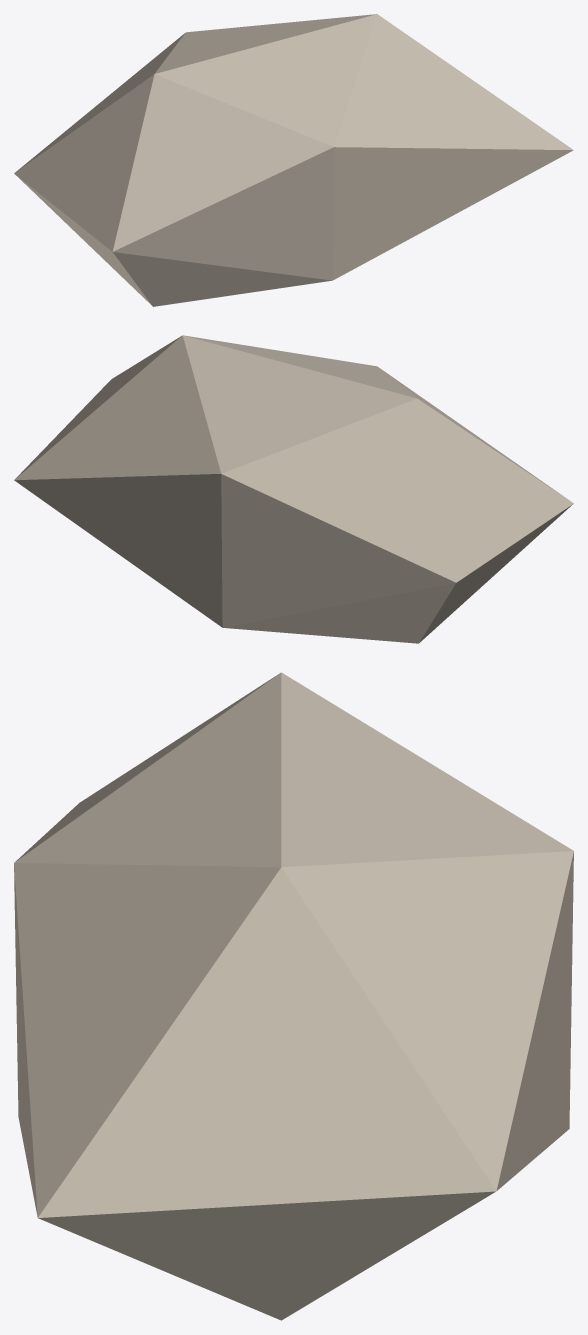
Rendered from source.gltf.
The picture shows the model from 3 angles, top to bottom: view 1: azimuth 30°, elevation 25°; view 2: azimuth 150°, elevation 25°; view 3: azimuth 270°, elevation 25°; orthographic projection. The views are drawn at different scales.
Bounding box in the file's own units: 3.14 × 1.6 × 1.79.
